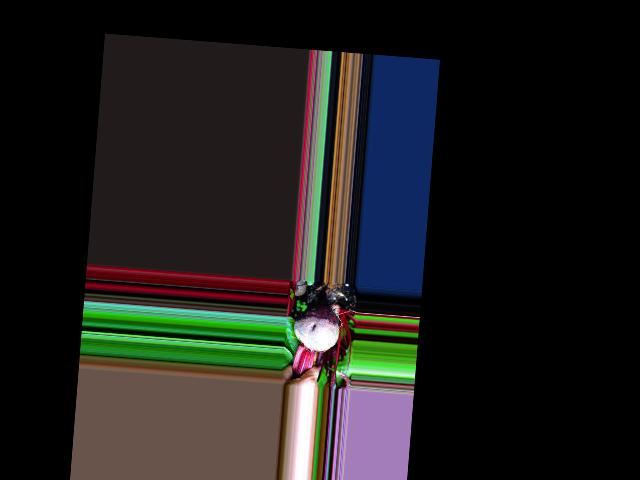beet: (290, 279, 343, 381)
